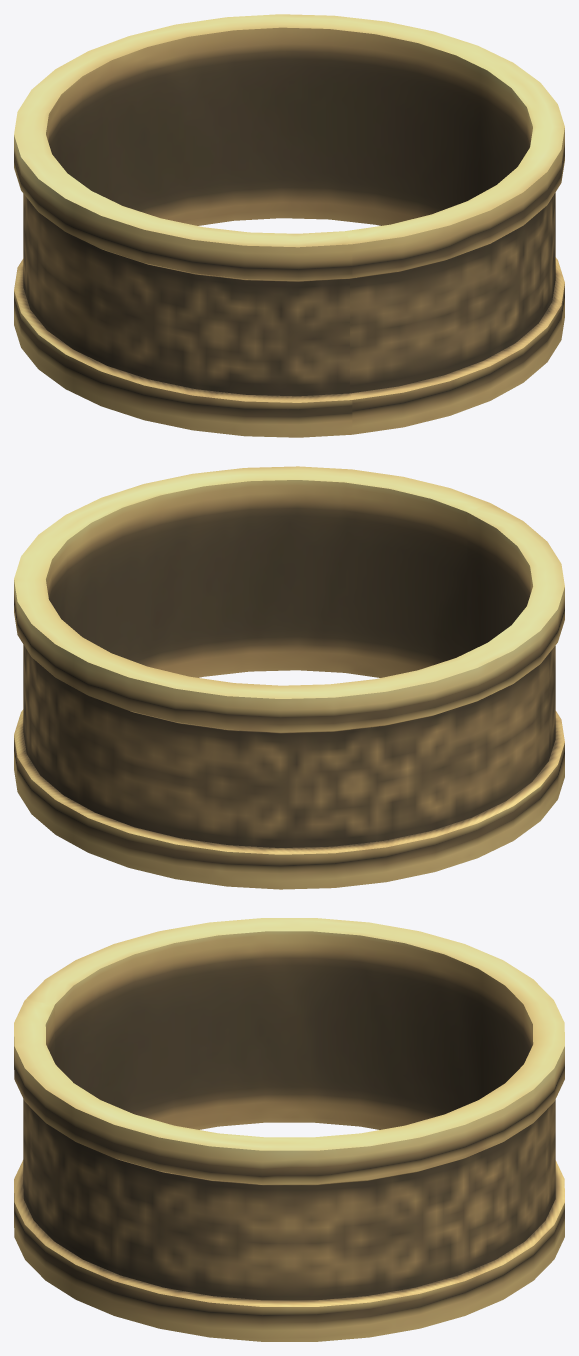
Rendered from SM_Ring_A_Gold.fbx.
3 views of the same model, one above another, from view 1: azimuth 30°, elevation 25°; view 2: azimuth 150°, elevation 25°; view 3: azimuth 270°, elevation 25° (orthographic).
Visible parts, largest first — view 1: SM_Ring_A_Gold_LOD0; view 2: SM_Ring_A_Gold_LOD0; view 3: SM_Ring_A_Gold_LOD0.
Part boxes in pixels (x1,y1,x2,y2): SM_Ring_A_Gold_LOD0: (14,14,564,437); SM_Ring_A_Gold_LOD0: (14,466,564,889); SM_Ring_A_Gold_LOD0: (14,918,564,1341).
Bounding box in the file's own units: 3.29 × 3.29 × 1.26.
Materials: 1 (1 with a texture image).
